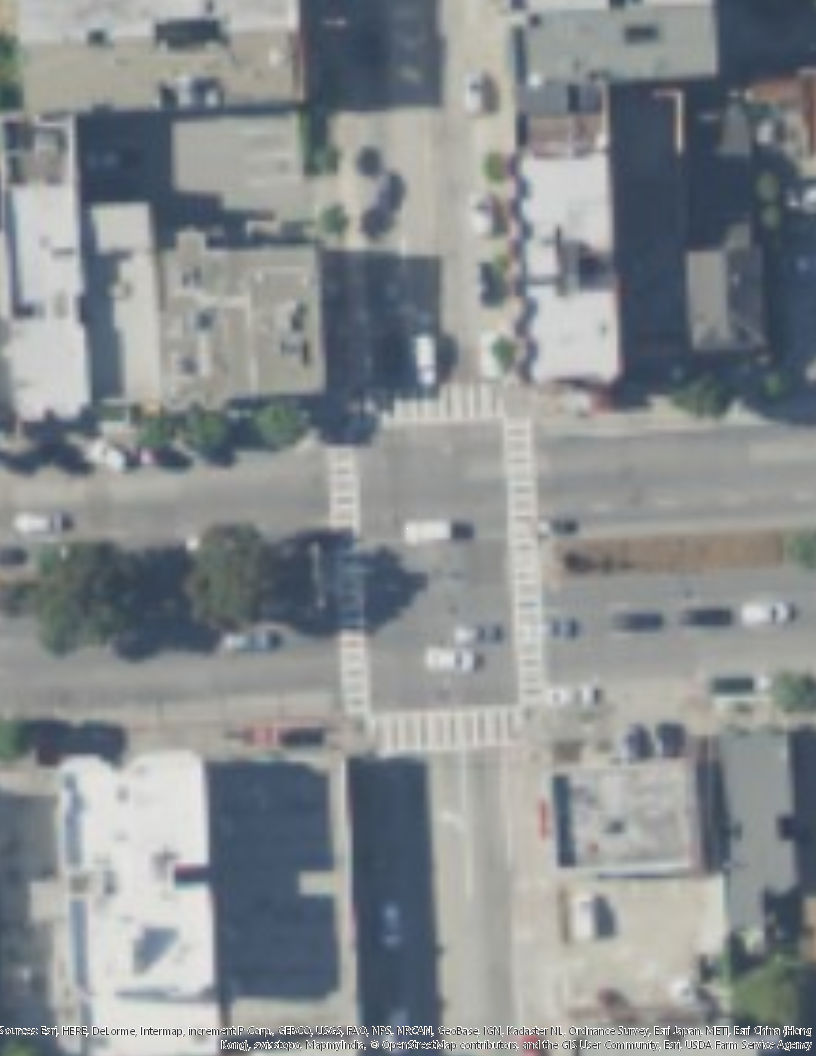zebracross: (502, 417, 550, 702), (326, 438, 374, 710), (361, 705, 514, 758), (349, 387, 509, 428)
